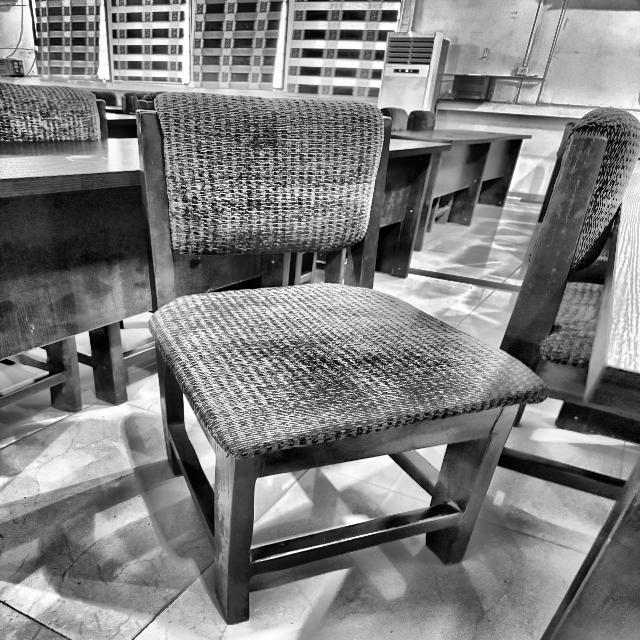air condition: (386, 27, 450, 113)
chair: (127, 88, 548, 623)
table: (412, 121, 535, 225)
